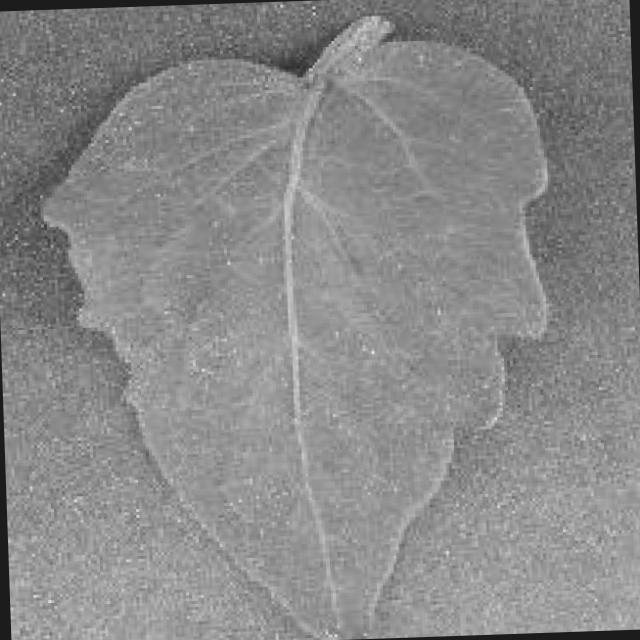healthy: (35, 11, 548, 640)
